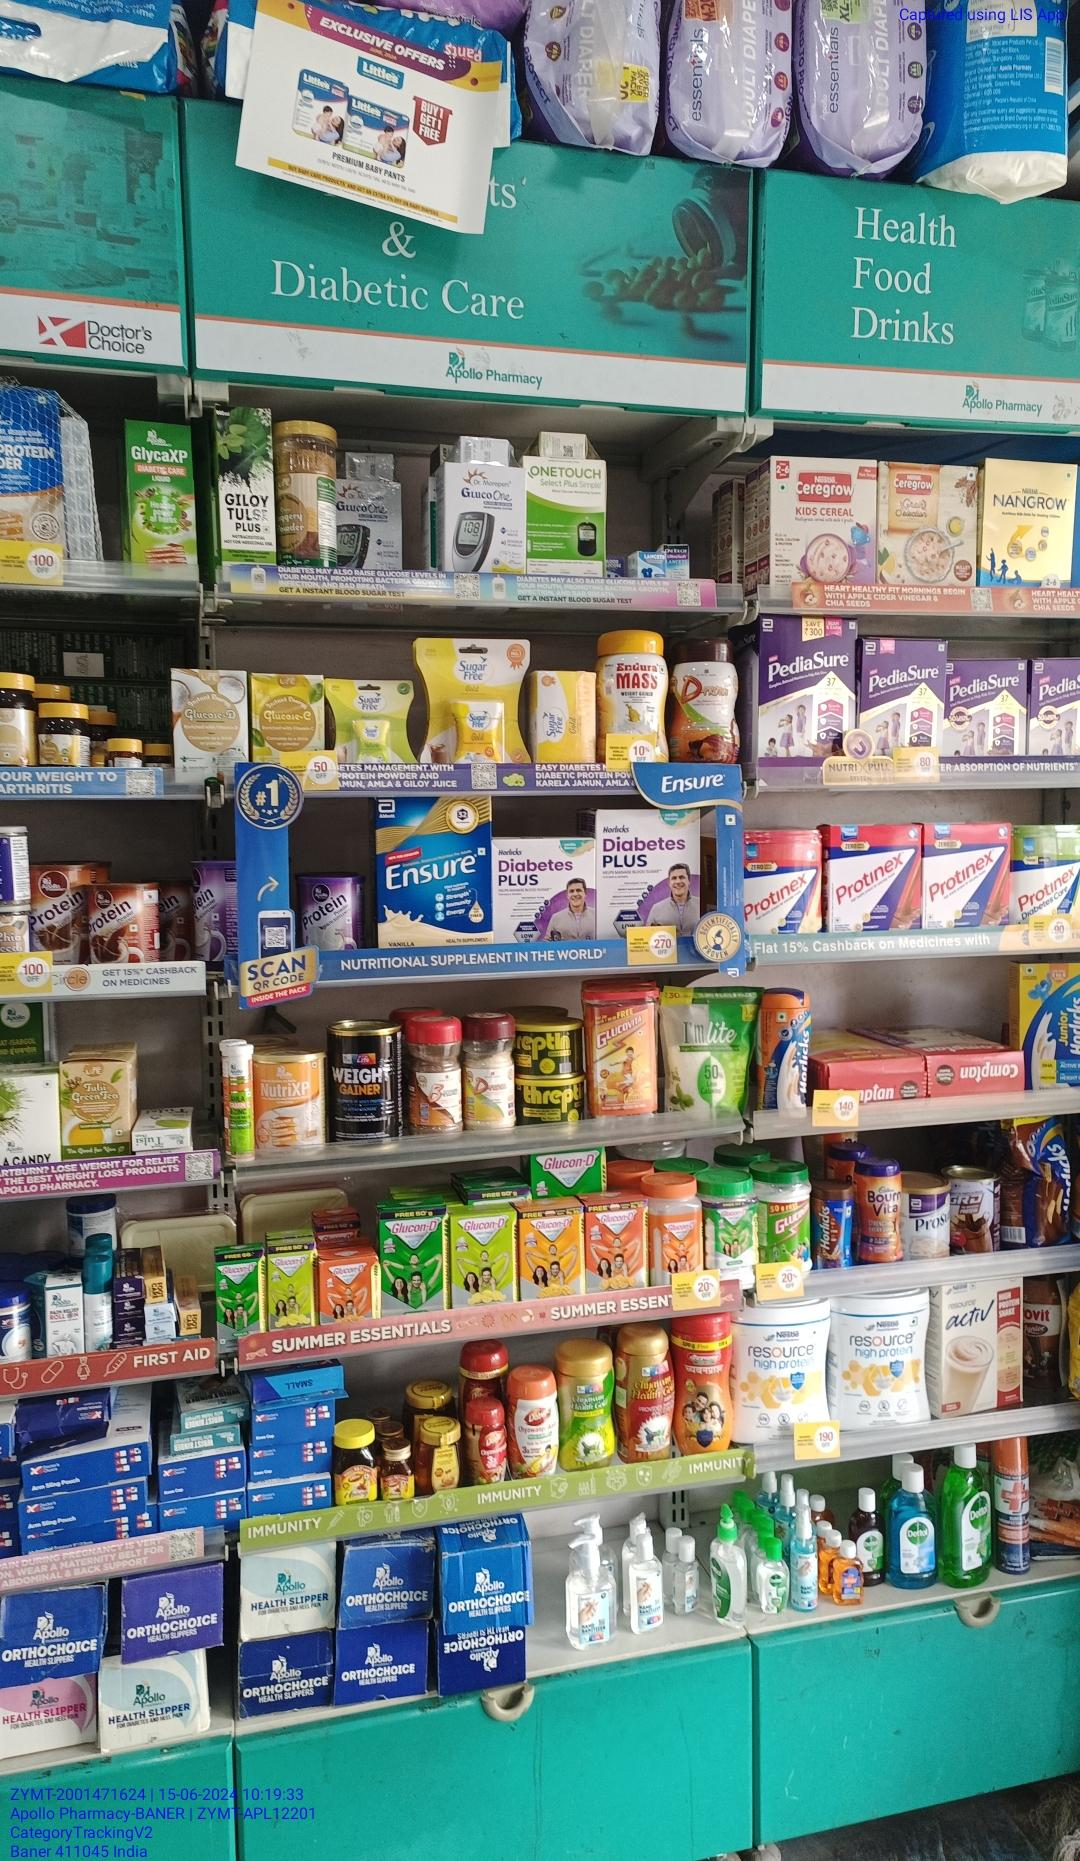ENSURE_VANILLA_400_G_PACK: (377, 798, 491, 945)
PEDIASURE_CHOCOLATE_500_G_PACK: (860, 639, 944, 745), (946, 661, 1027, 758), (1030, 658, 1080, 753)
PROTINEX_VANILLA_400_G_JAR: (743, 828, 823, 938)
